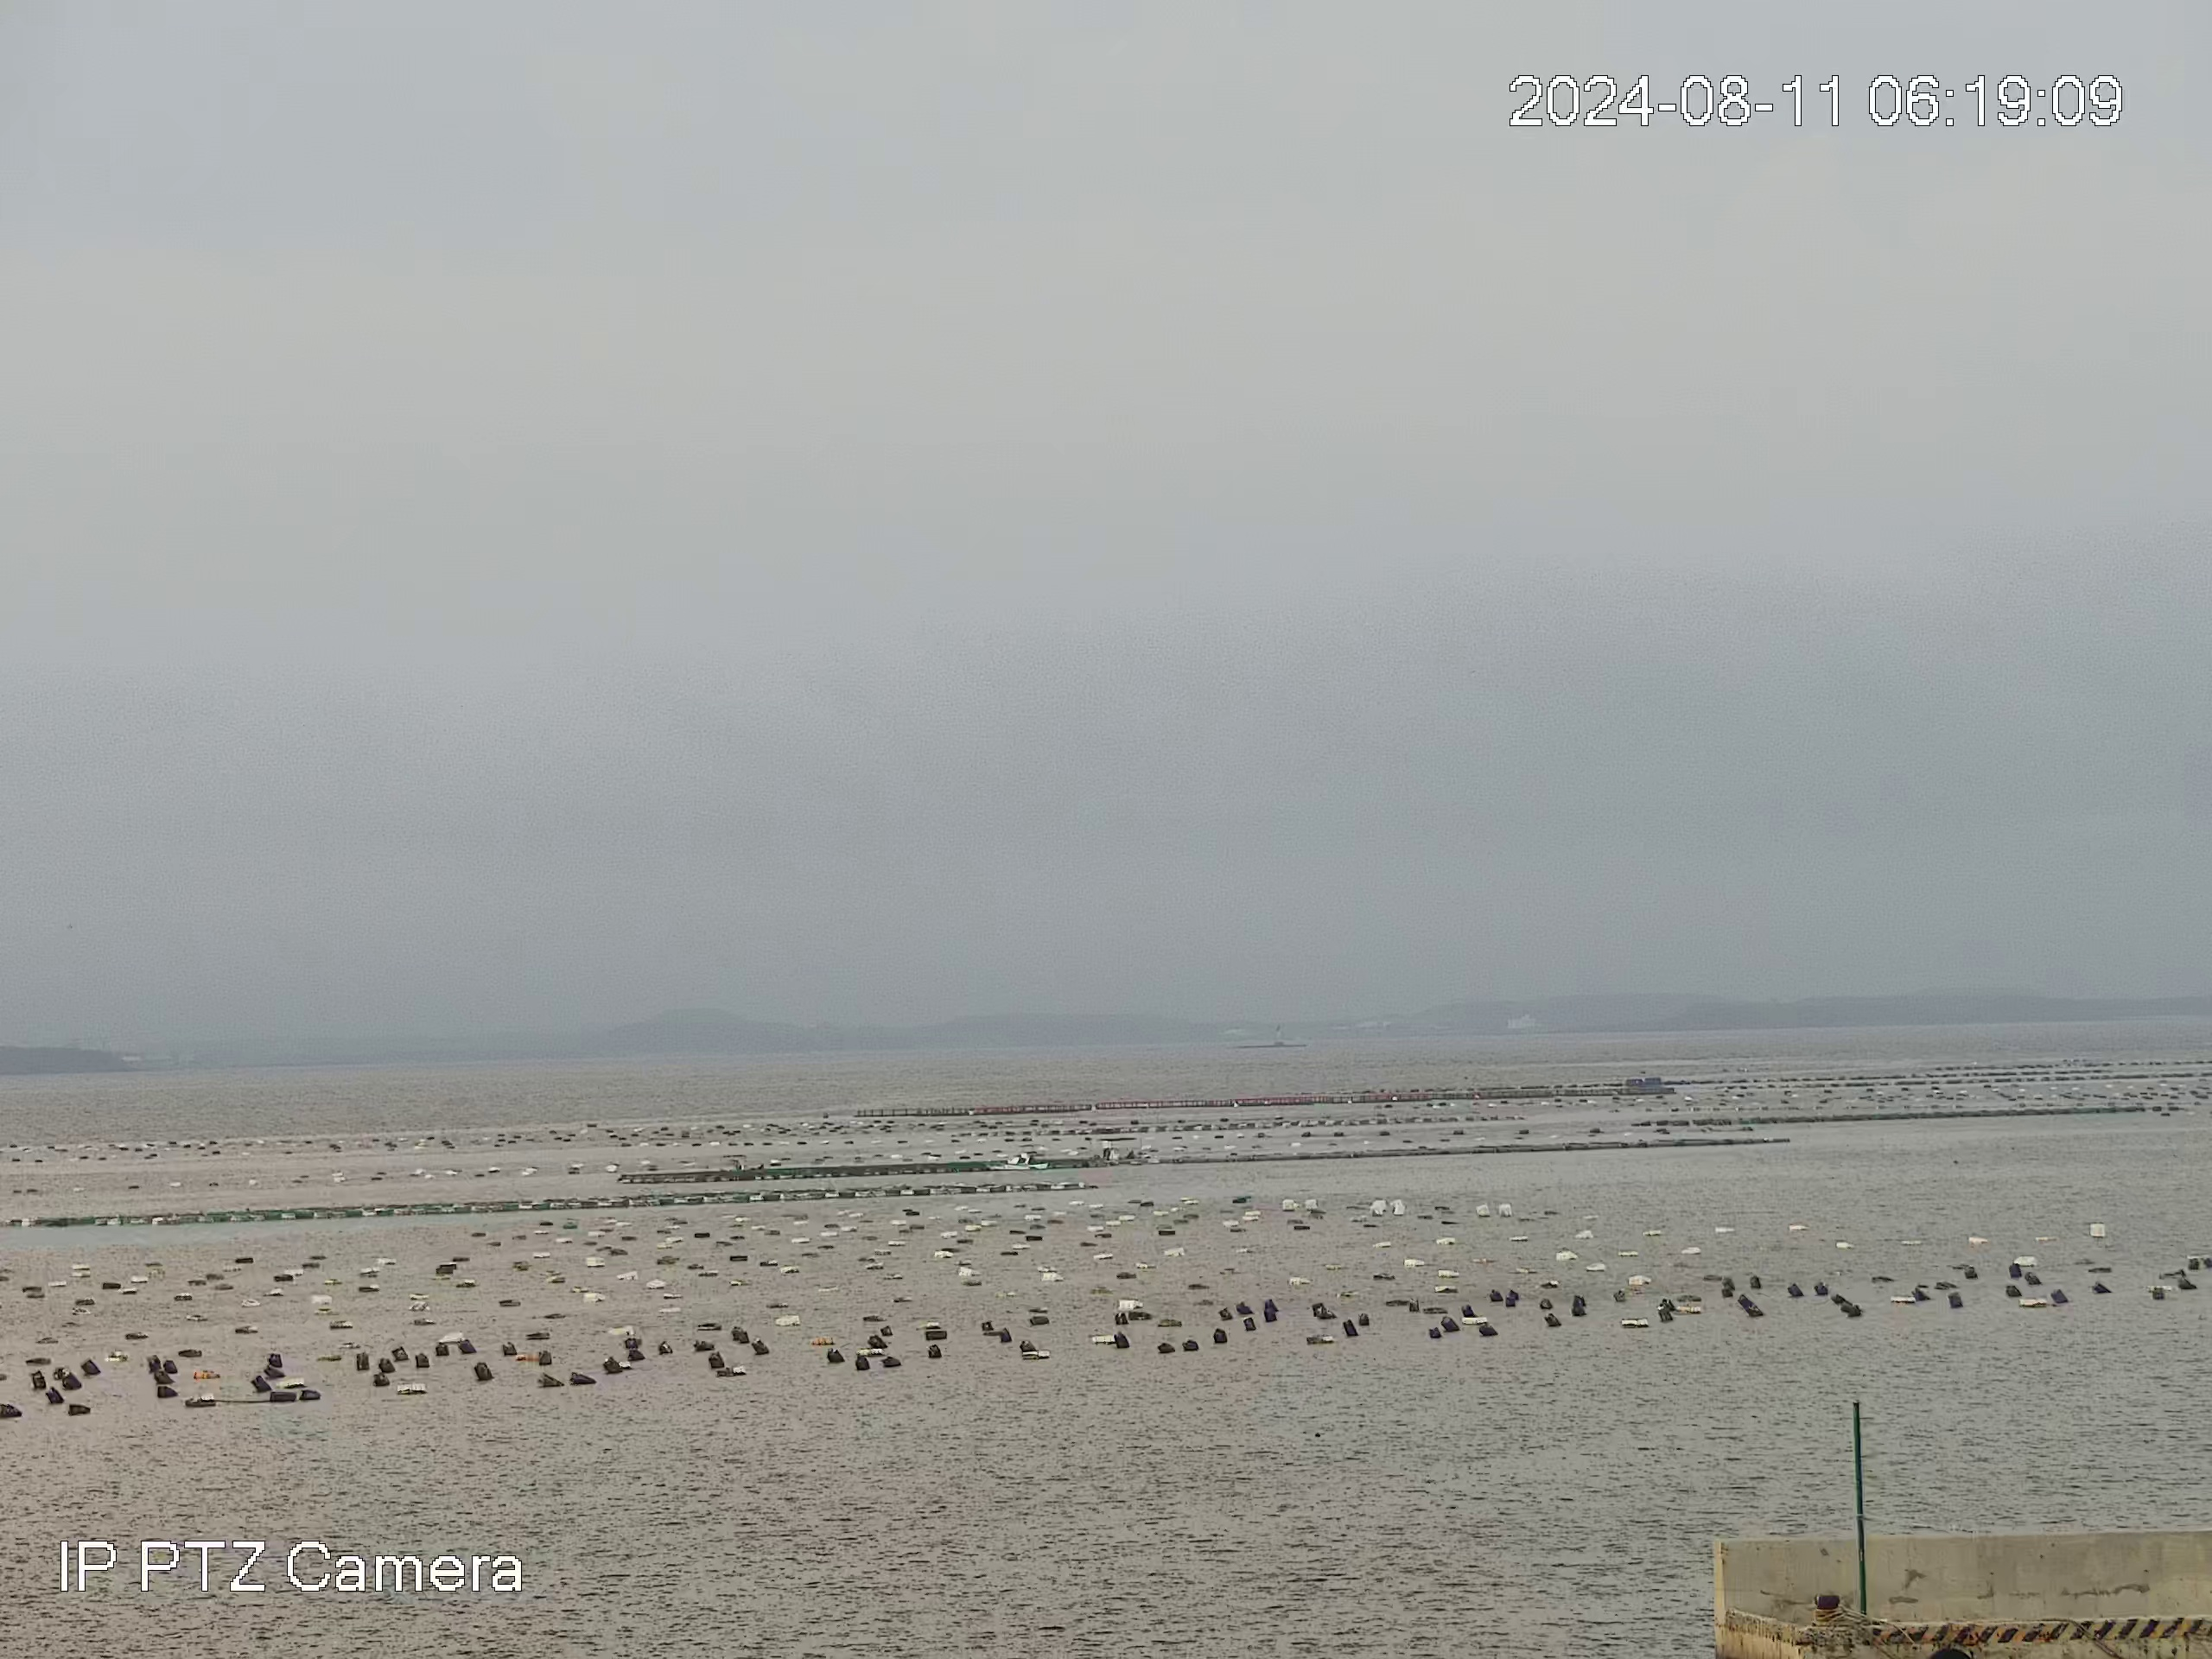boat: (982, 1148, 1052, 1175)
